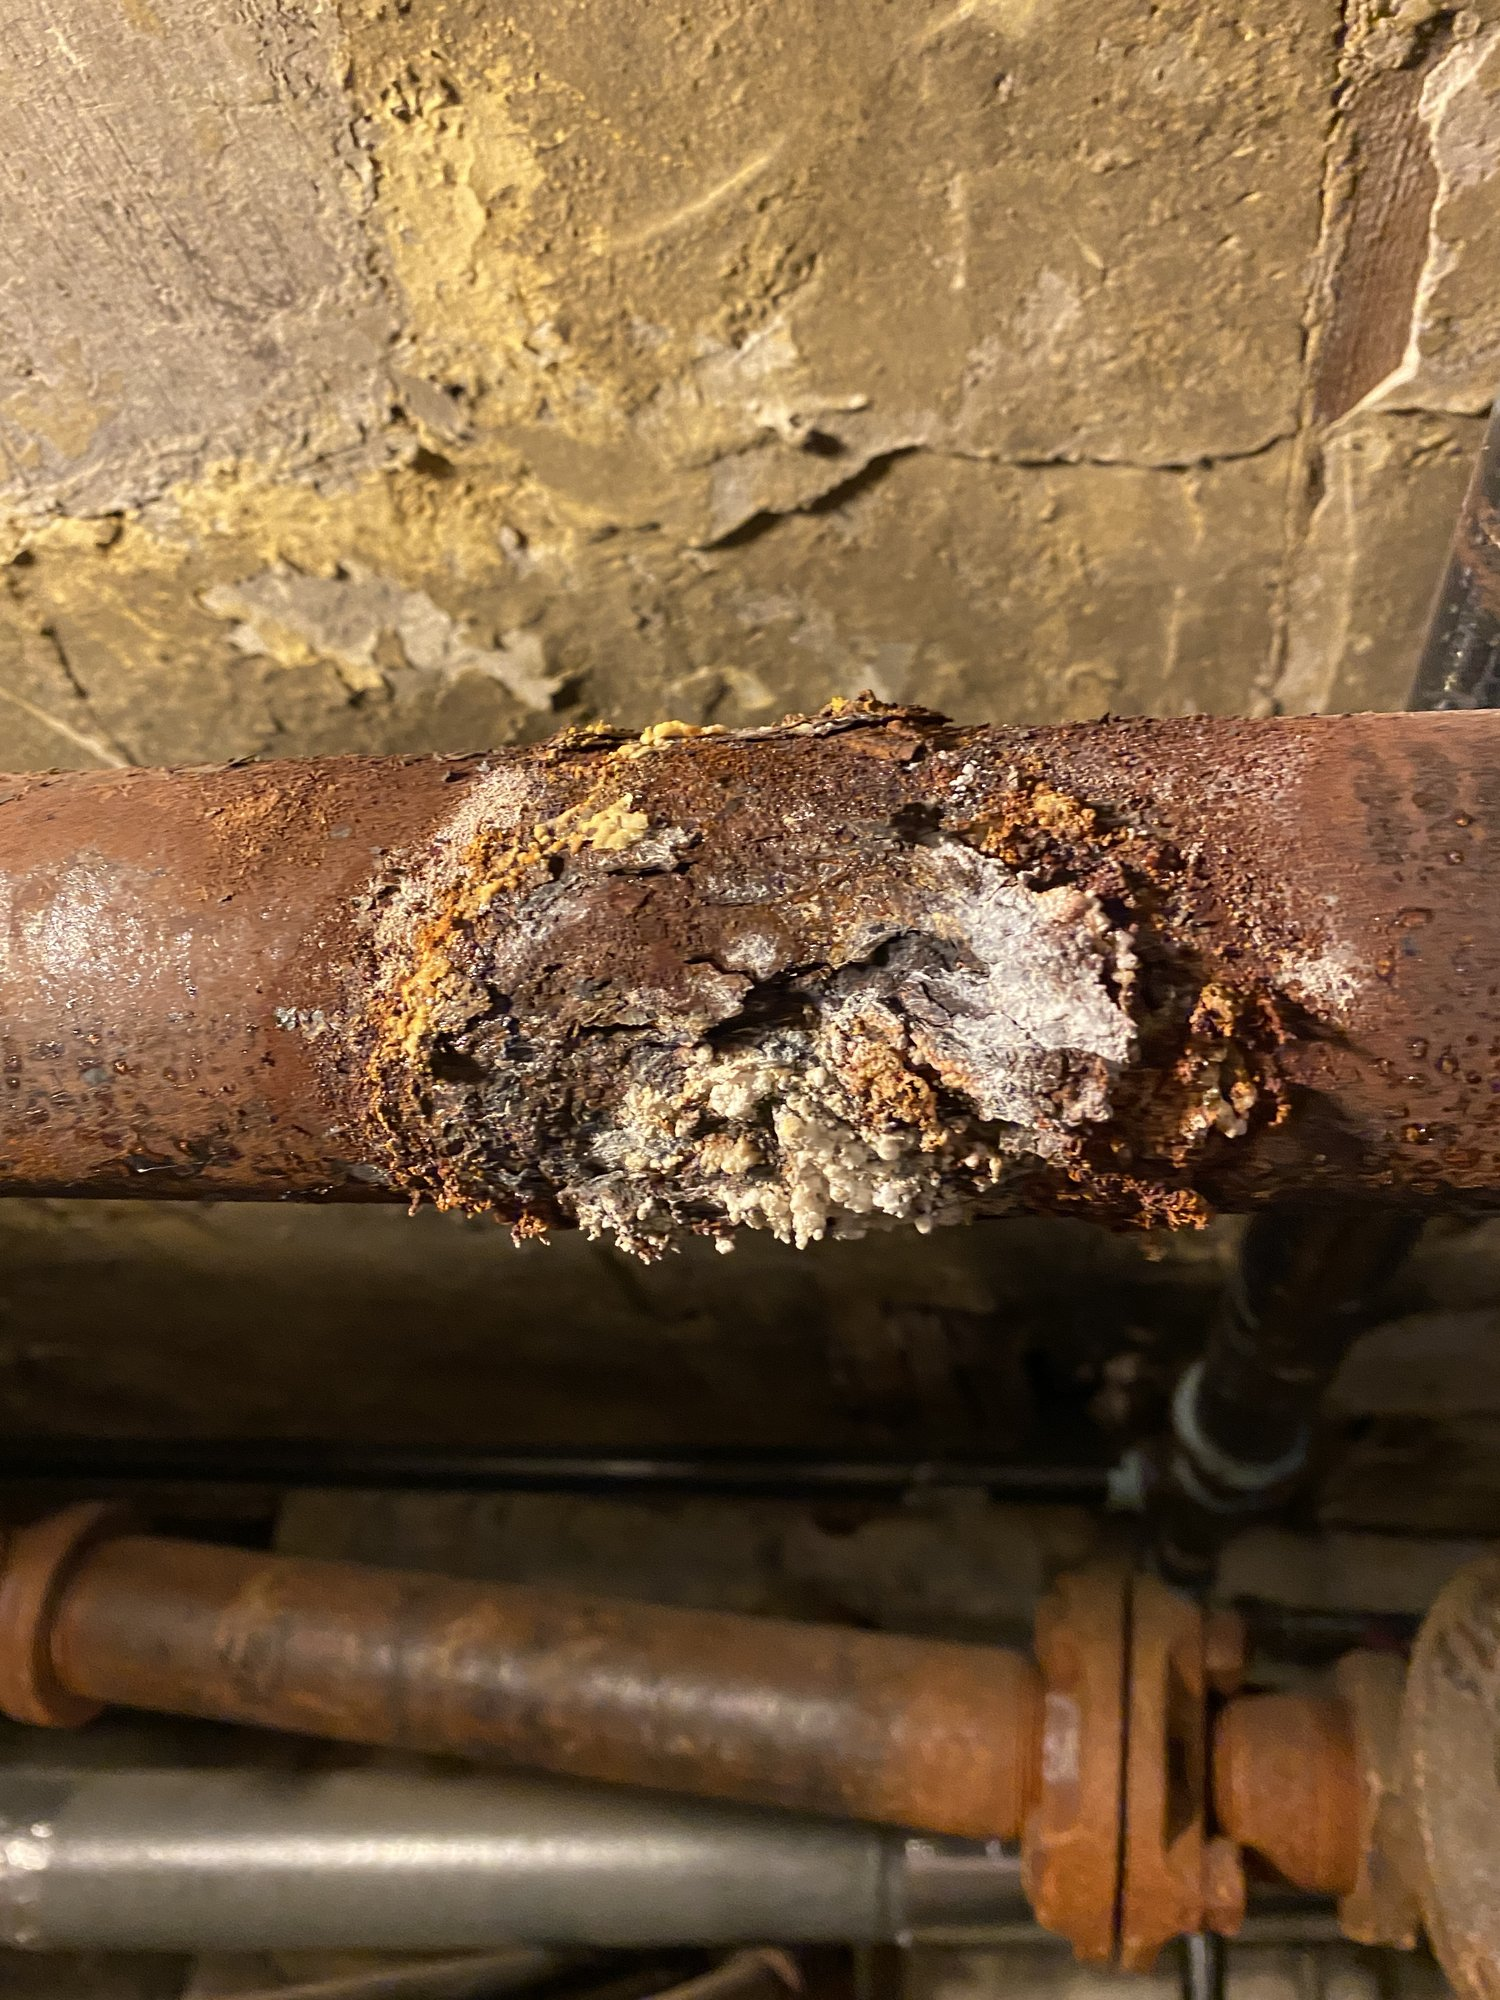Low: (967, 1559, 1361, 1953)
Severe: (296, 698, 1294, 1274)
